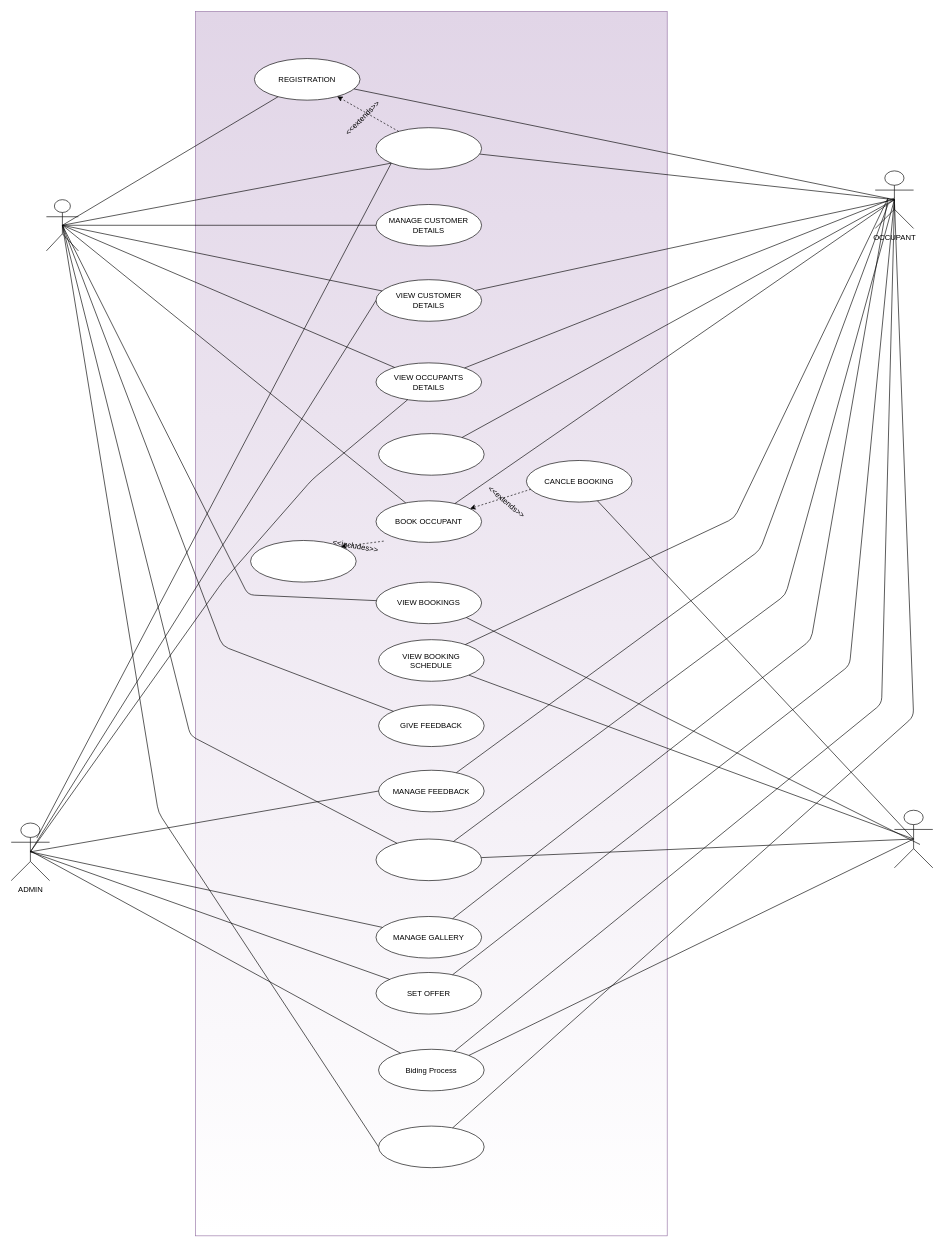
This 950x1247 diagram has some shape labels left out. Each missing label, with the box of its shape:
ADD GALLERY: (375, 838, 482, 881)
CUSTOMER: (46, 199, 78, 251)
DATE & TIME: (894, 810, 933, 868)
LOG IN: (375, 127, 482, 169)
MANAGE OCCUPANTS: (378, 433, 484, 475)
NOTIFICATION: (250, 540, 356, 582)
View Bid: (378, 1125, 484, 1168)
